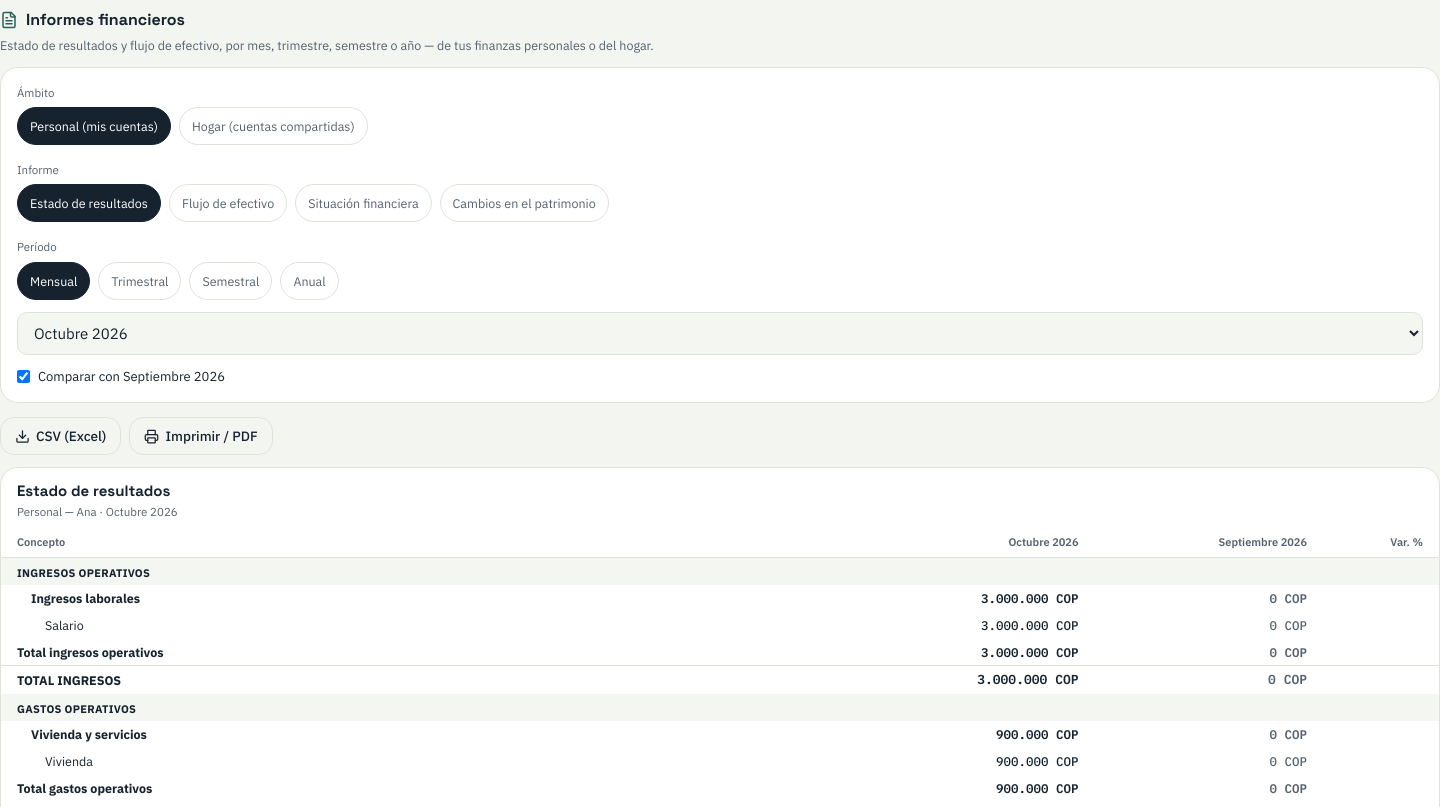
Test: Informes (prueba de humo) › avisa cuando no hay cuentas compartidas para el informe del hogar
What coordinates should you click on to do the following:
click the button "Hogar (cuentas compartidas)"
I would click on:
 (273, 126)
Its box is [179,107,368,145].
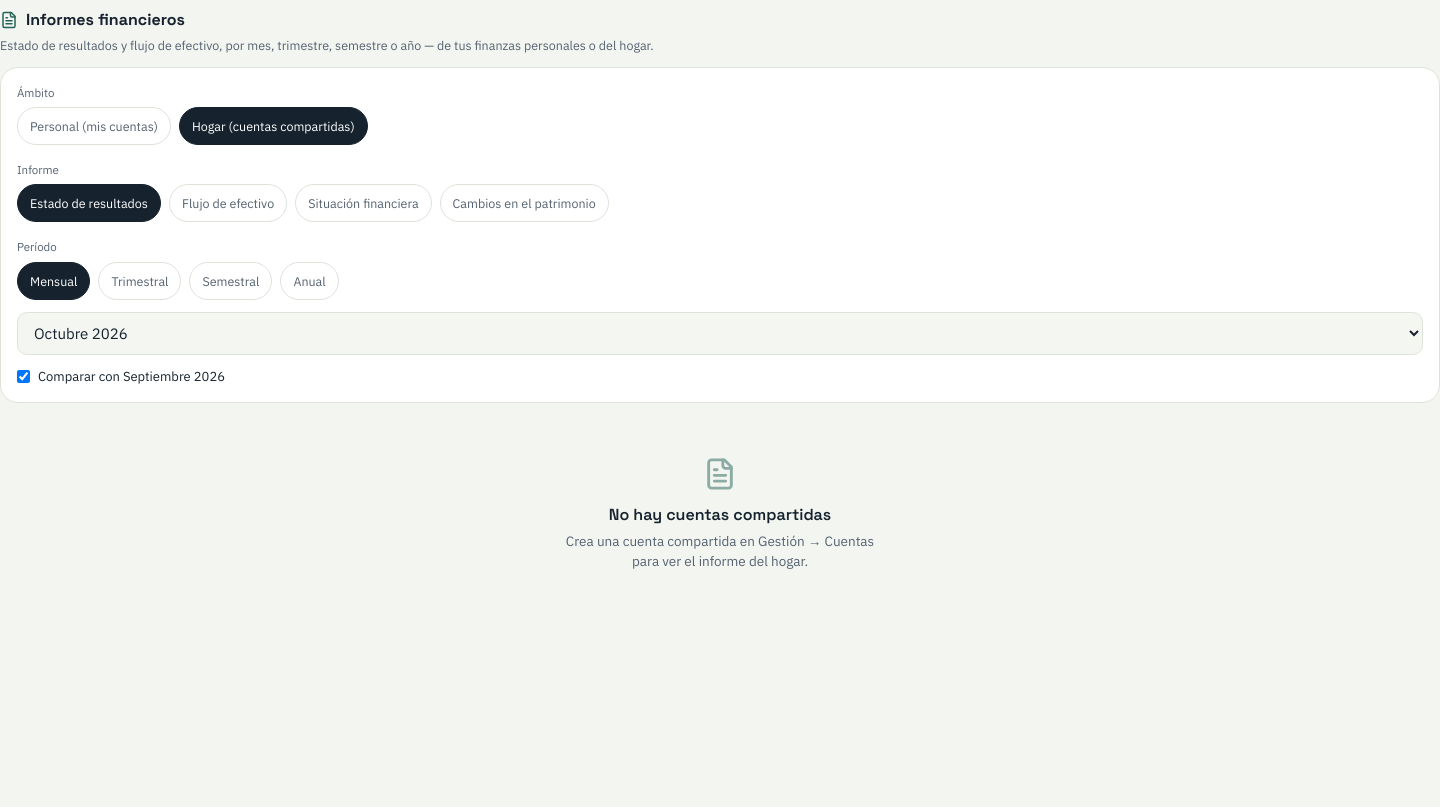
Now the text "No hay cuentas compartidas" is shown, box [609,503,831,527]
